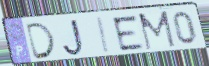0: (172, 10, 200, 46)
D: (25, 21, 58, 61)
E: (110, 14, 147, 53)
I: (96, 16, 112, 55)
J: (62, 18, 86, 58)
M: (136, 9, 177, 52)
